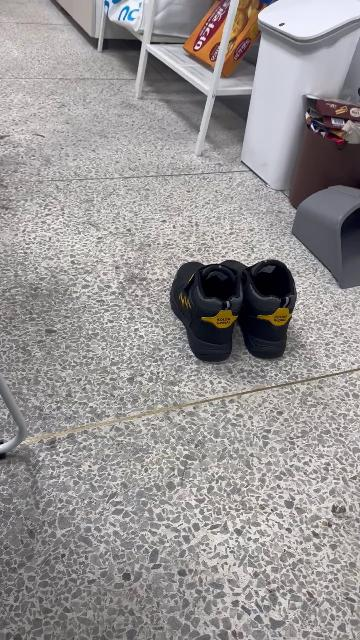shoe_worn: (223, 258, 301, 360), (172, 261, 245, 363)
